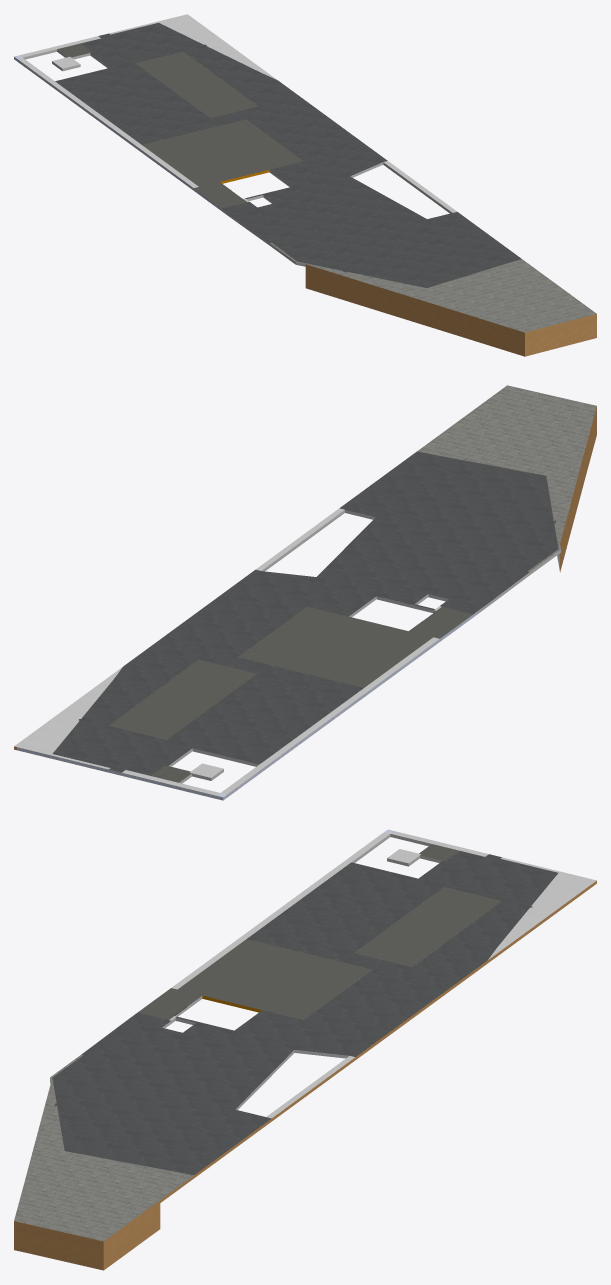
Rendered from 0_floor_aisle_b_ground_sized.glb.
3 renders of one model, top to bottom at view 1: azimuth 30°, elevation 25°; view 2: azimuth 150°, elevation 25°; view 3: azimuth 330°, elevation 25°, orthographic. The views are drawn at different scales.
Parts seen in each view (by area): view 1: UFR_MIM_V1_SOl; view 2: UFR_MIM_V1_SOl; view 3: UFR_MIM_V1_SOl.
Boxes of the visible parts, bbox=[...] form: UFR_MIM_V1_SOl: bbox=[14, 14, 596, 356]; UFR_MIM_V1_SOl: bbox=[14, 385, 596, 800]; UFR_MIM_V1_SOl: bbox=[14, 829, 596, 1270].
Size of the model in its own units: 16.5 by 2.19 by 67.57.
10 materials, 8 textured.
